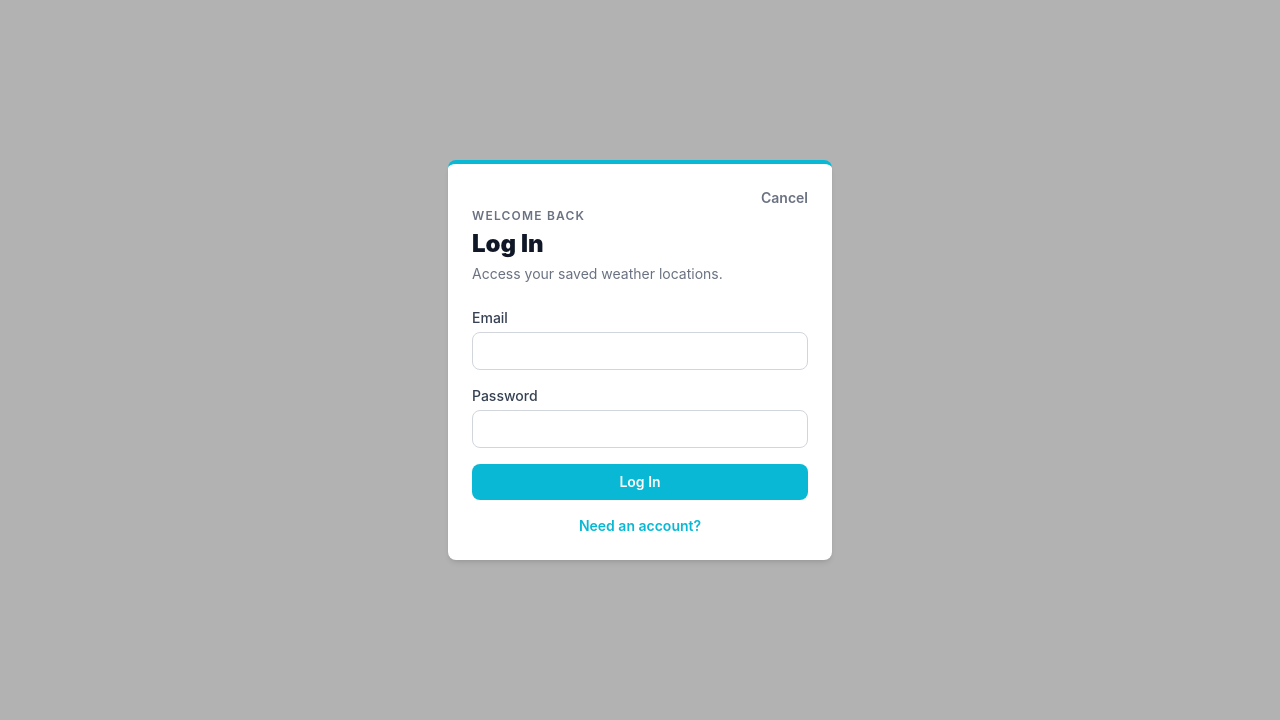
AuthModal › switches to signup form when Need an account is clicked
Step 1. Click the button "Need an account?" → (640, 526), box [472, 516, 808, 536]
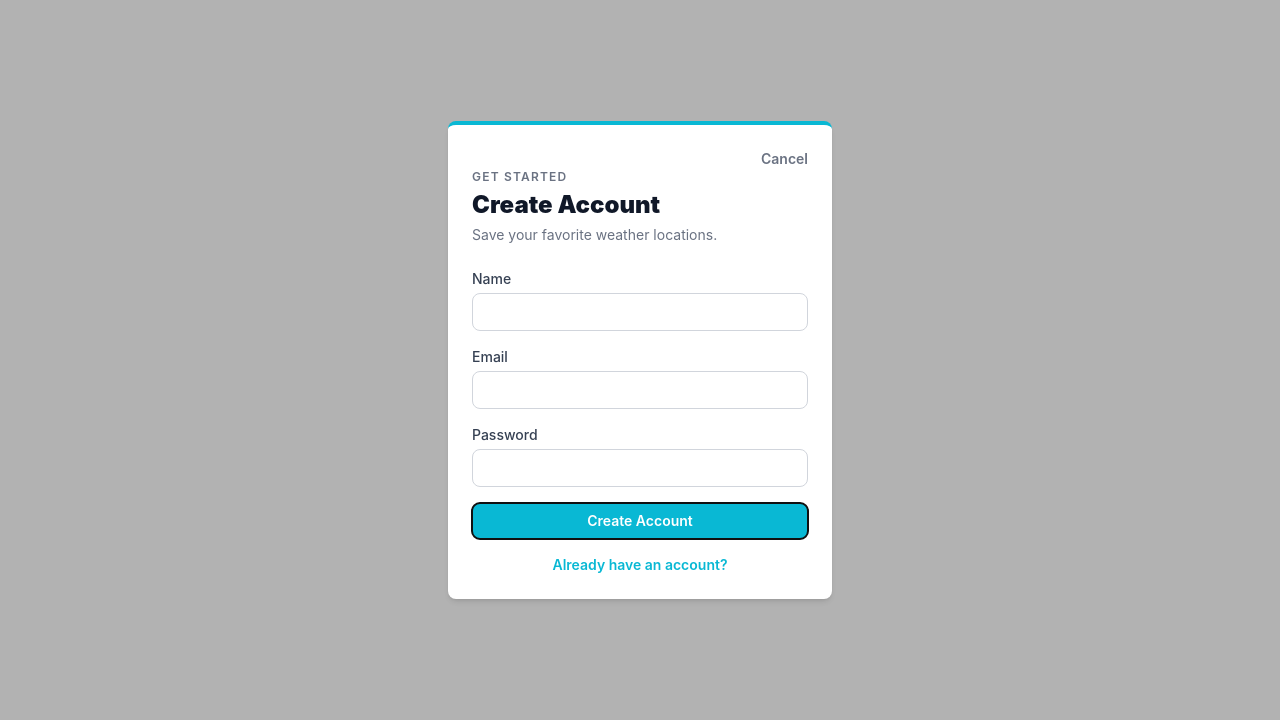
Now the heading "Create Account" is shown, box [472, 190, 660, 219]
